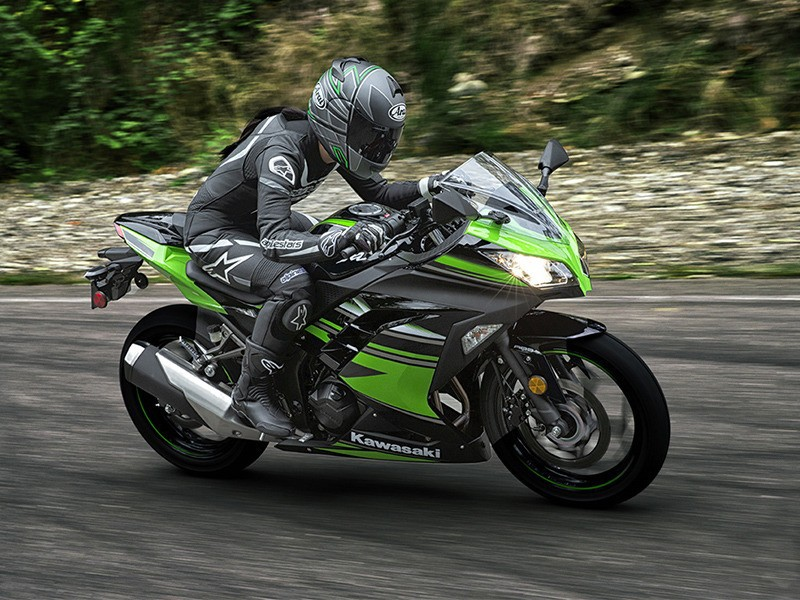motorcycle: (85, 139, 679, 504)
